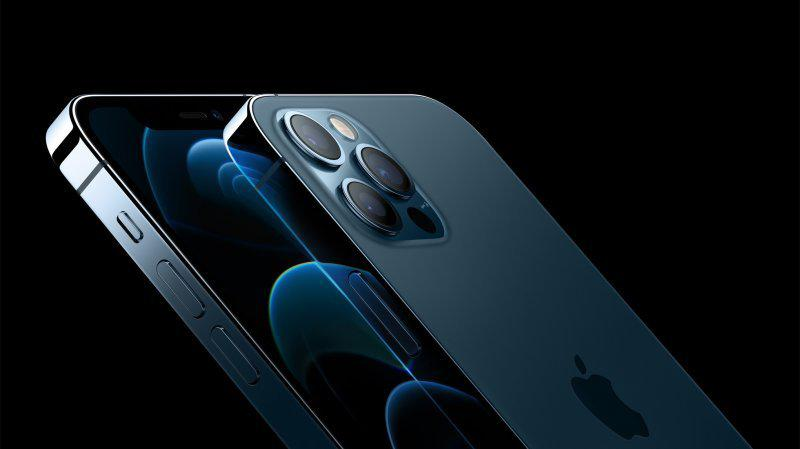Smartphone: (41, 67, 737, 449)
